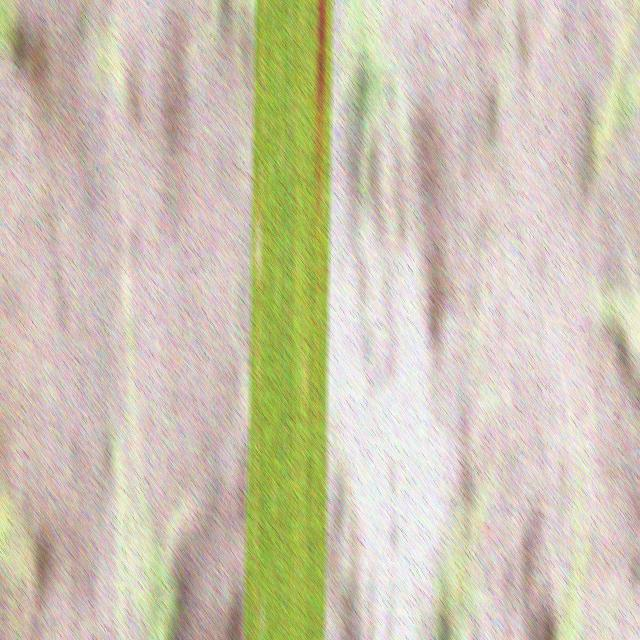NBS: (317, 0, 326, 137)
